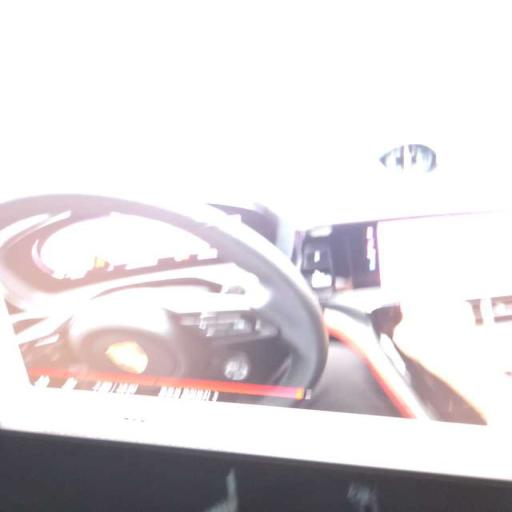car: (0, 0, 511, 511), (0, 194, 511, 478)
